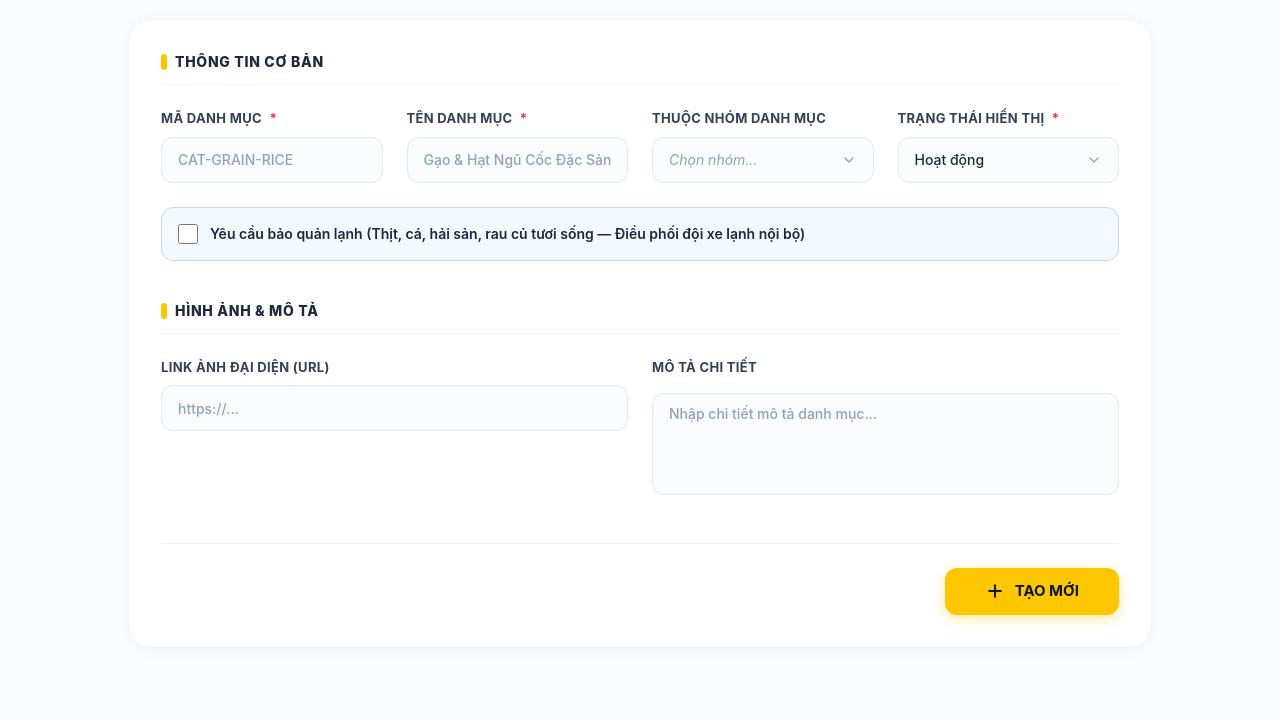
Test: Module 04 - ProductCategoryForm Component › TC02 - Hiển thị lỗi validation khi submit dữ liệu trống
(page scrolled)
Click the button "TẠO MỚI": (1032,591) [945,568,1119,614]
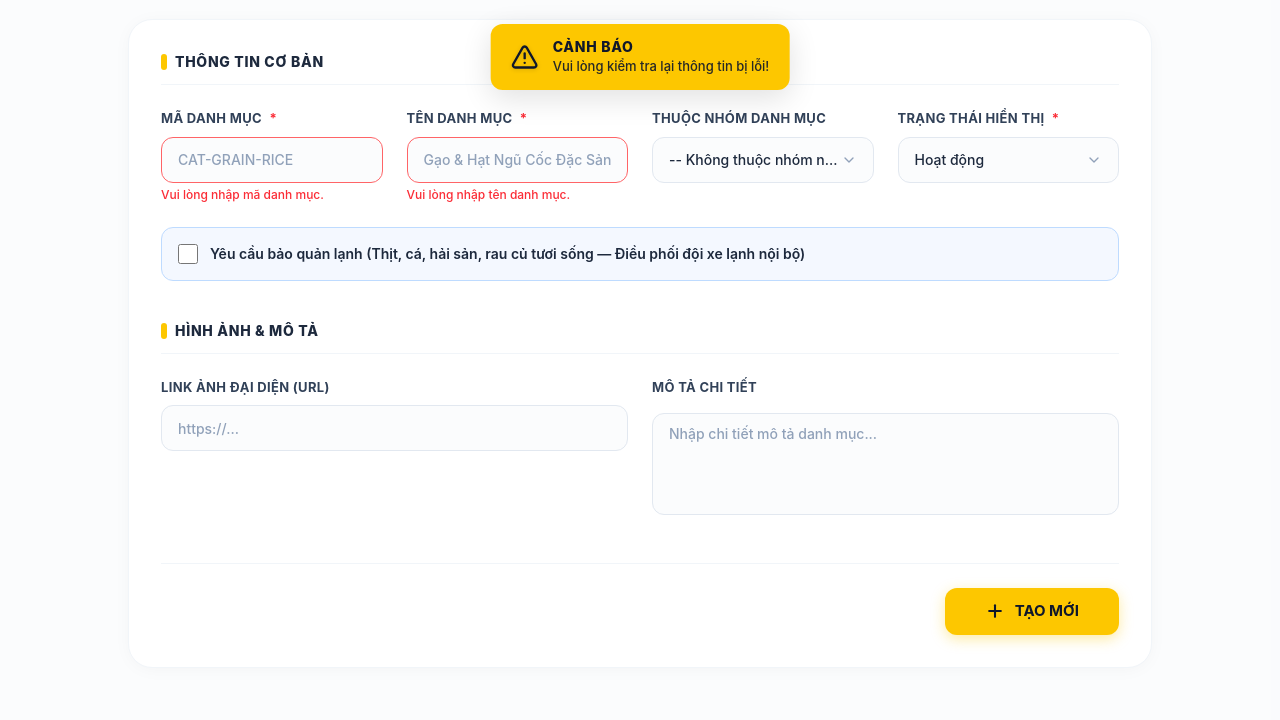
Check: the text "Vui lòng nhập mã danh mục." is shown, box [161,186,324,202]
Check: the text "Vui lòng nhập tên danh mục." is shown, box [406,186,570,202]
